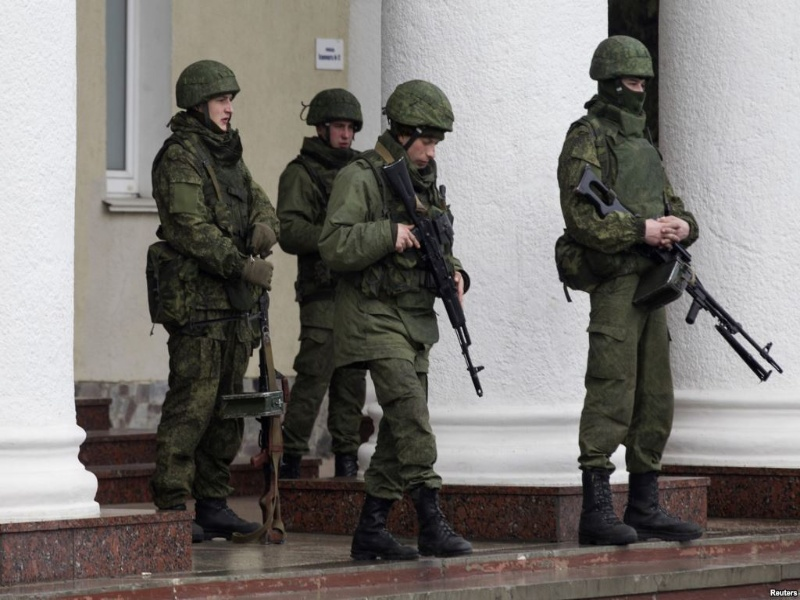person: (555, 36, 702, 544), (318, 80, 471, 563), (145, 59, 279, 543), (276, 88, 363, 480)
weapon: (568, 163, 783, 382), (381, 157, 485, 396), (221, 251, 284, 546)
